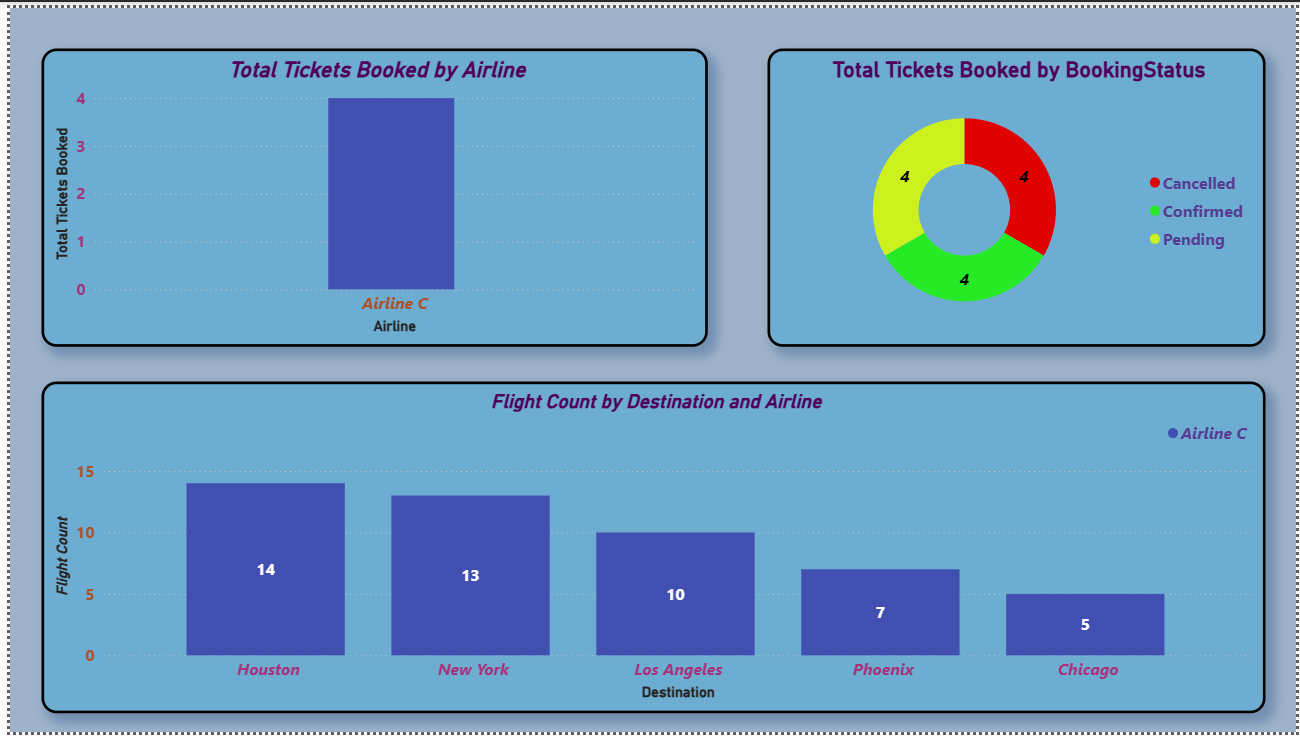

This screenshot's page, from the dashboard's own definition file:
{"tool":"powerbi","page":{"name":"Airline C","canvas":[1280,720],"ordinal":4},"visuals":[{"type":"columnChart","fields":{"Category":["flight_information.Airline"],"Y":["Measure.Total Tickets Booked"]},"box":[31.3,40.3,662.3,296.9],"z":0},{"type":"donutChart","fields":{"Category":["ticket_information.BookingStatus"],"Y":["Measure.Total Tickets Booked"]},"box":[753.3,40.3,495.3,296.9],"z":1000},{"type":"columnChart","fields":{"Category":["flight_information.Destination"],"Y":["Measure.Flight Count"],"Series":["flight_information.Airline"]},"box":[31.3,371.4,1217.3,329.7],"z":2000}]}

Visuals, with their boxes in screenshot pixels (x1, y1, x2, y2), scaled from the page's 1280x720 canvas onto the 1300x736 screenshot:
columnChart - flight_information.Airline x Measure.Total Tickets Booked: [x1=32, y1=41, x2=704, y2=345]
donutChart - ticket_information.BookingStatus x Measure.Total Tickets Booked: [x1=765, y1=41, x2=1268, y2=345]
columnChart - flight_information.Destination x Measure.Flight Count: [x1=32, y1=380, x2=1268, y2=717]
